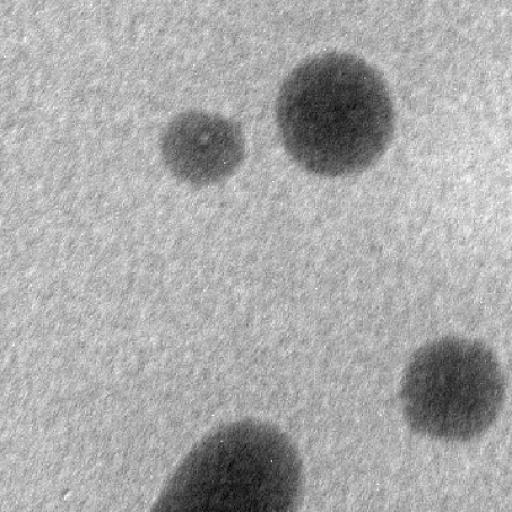Nanoparticles: (271, 48, 400, 184), (143, 415, 310, 512), (400, 333, 504, 439), (160, 108, 249, 190)
